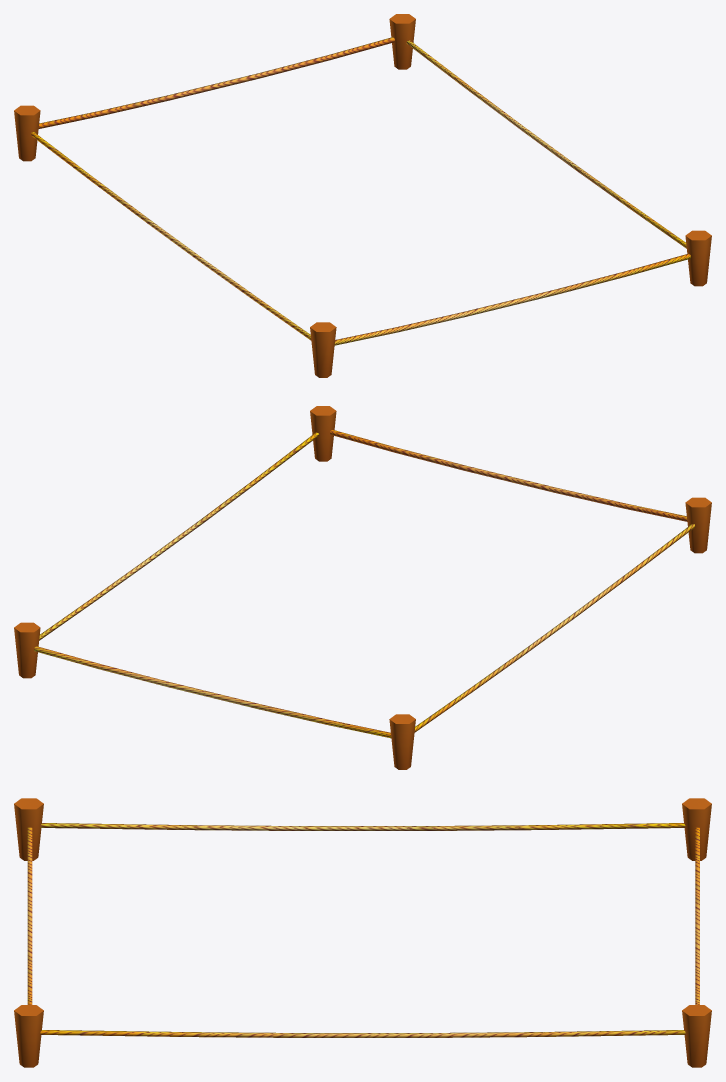
File: VikingHouse_04_S.fbx
3 renders of one model, top to bottom at view 1: azimuth 30°, elevation 25°; view 2: azimuth 150°, elevation 25°; view 3: azimuth 270°, elevation 25°, orthographic. The views are drawn at different scales.
Parts seen in each view (by area): view 1: VikingHouse_04_S; view 2: VikingHouse_04_S; view 3: VikingHouse_04_S.
Part boxes in pixels (x1,y1,x2,y2): VikingHouse_04_S: (14,14,711,377); VikingHouse_04_S: (14,406,711,769); VikingHouse_04_S: (14,798,711,1067).
Bounding box in the file's own units: 402 × 46.33 × 545.
